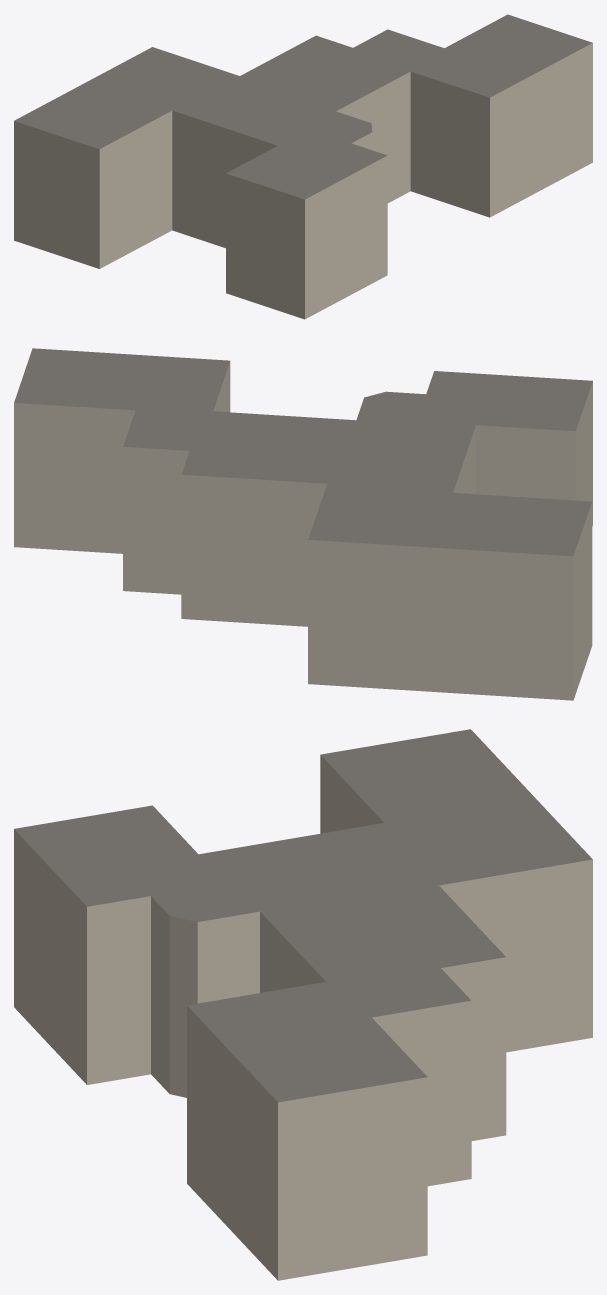
3 renders of one model, top to bottom at view 1: azimuth 30°, elevation 25°; view 2: azimuth 150°, elevation 25°; view 3: azimuth 270°, elevation 25°, orthographic. The views are drawn at different scales.
Visible parts, largest first — view 1: HP-w1197586458; view 2: HP-w1197586458; view 3: HP-w1197586458.
Part boxes in pixels (x1,y1,x2,y2): HP-w1197586458: [14, 14, 592, 319]; HP-w1197586458: [14, 348, 592, 700]; HP-w1197586458: [14, 729, 592, 1280].
Bounding box in the file's own units: 80.83 × 18 × 52.98.
